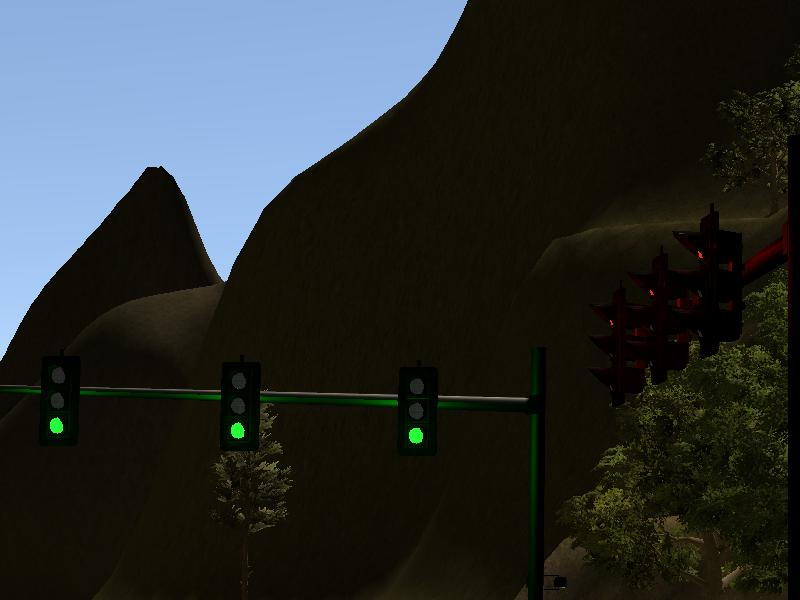Green: (43, 356, 79, 446), (221, 364, 257, 450), (400, 367, 433, 454)
